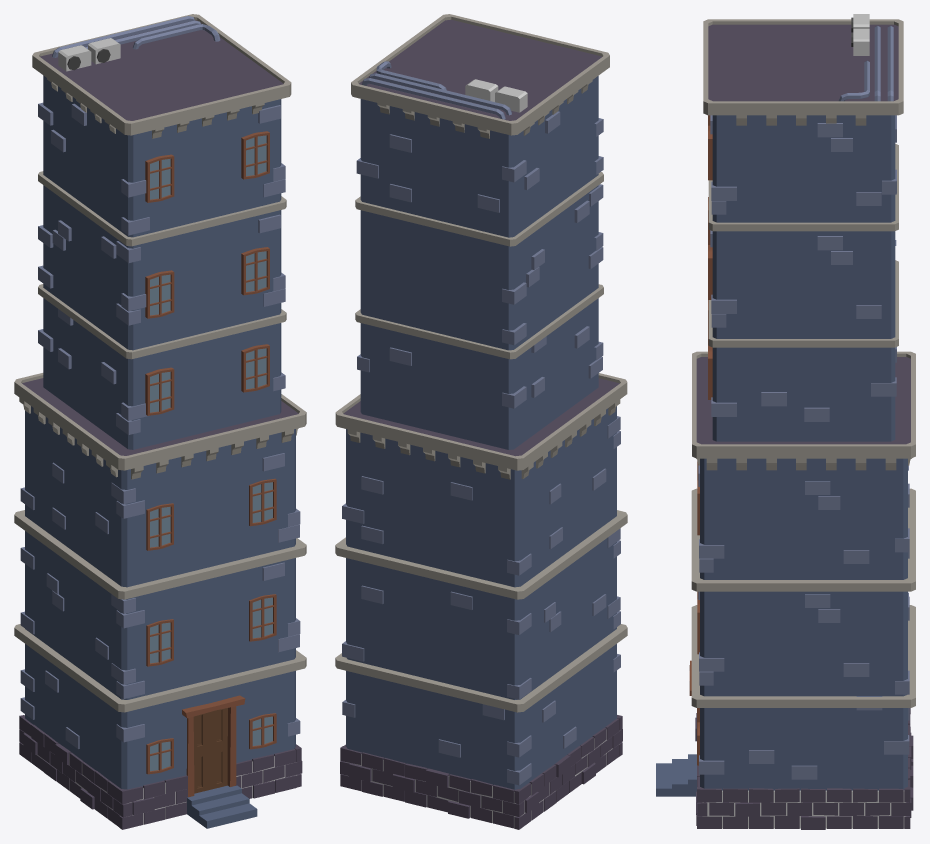
File: 6Story_Stack.glb
The picture shows the model from 3 angles, left to right: view 1: azimuth 30°, elevation 25°; view 2: azimuth 150°, elevation 25°; view 3: azimuth 270°, elevation 25°; orthographic projection. The views are drawn at different scales.
Parts seen in each view (by area): view 1: 6Story_Stack_Cube.137; view 2: 6Story_Stack_Cube.137; view 3: 6Story_Stack_Cube.137.
Boxes of the visible parts, <box> form: 6Story_Stack_Cube.137: <box>14,14,306,829</box>; 6Story_Stack_Cube.137: <box>335,14,627,829</box>; 6Story_Stack_Cube.137: <box>656,14,915,829</box>.
Bounding box in the file's own units: 2.16 × 7.8 × 2.5.
1 material, 1 textured.
